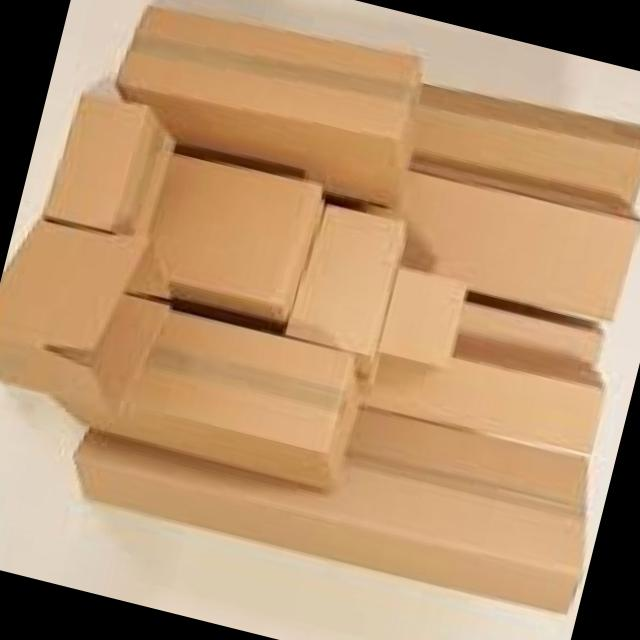cardboard paper: (0, 8, 640, 613), (120, 8, 424, 205)
